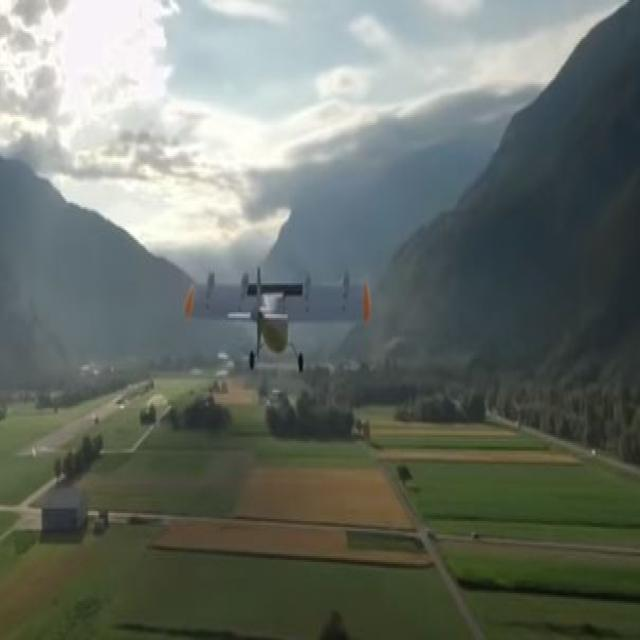iha: (182, 296, 372, 343)
